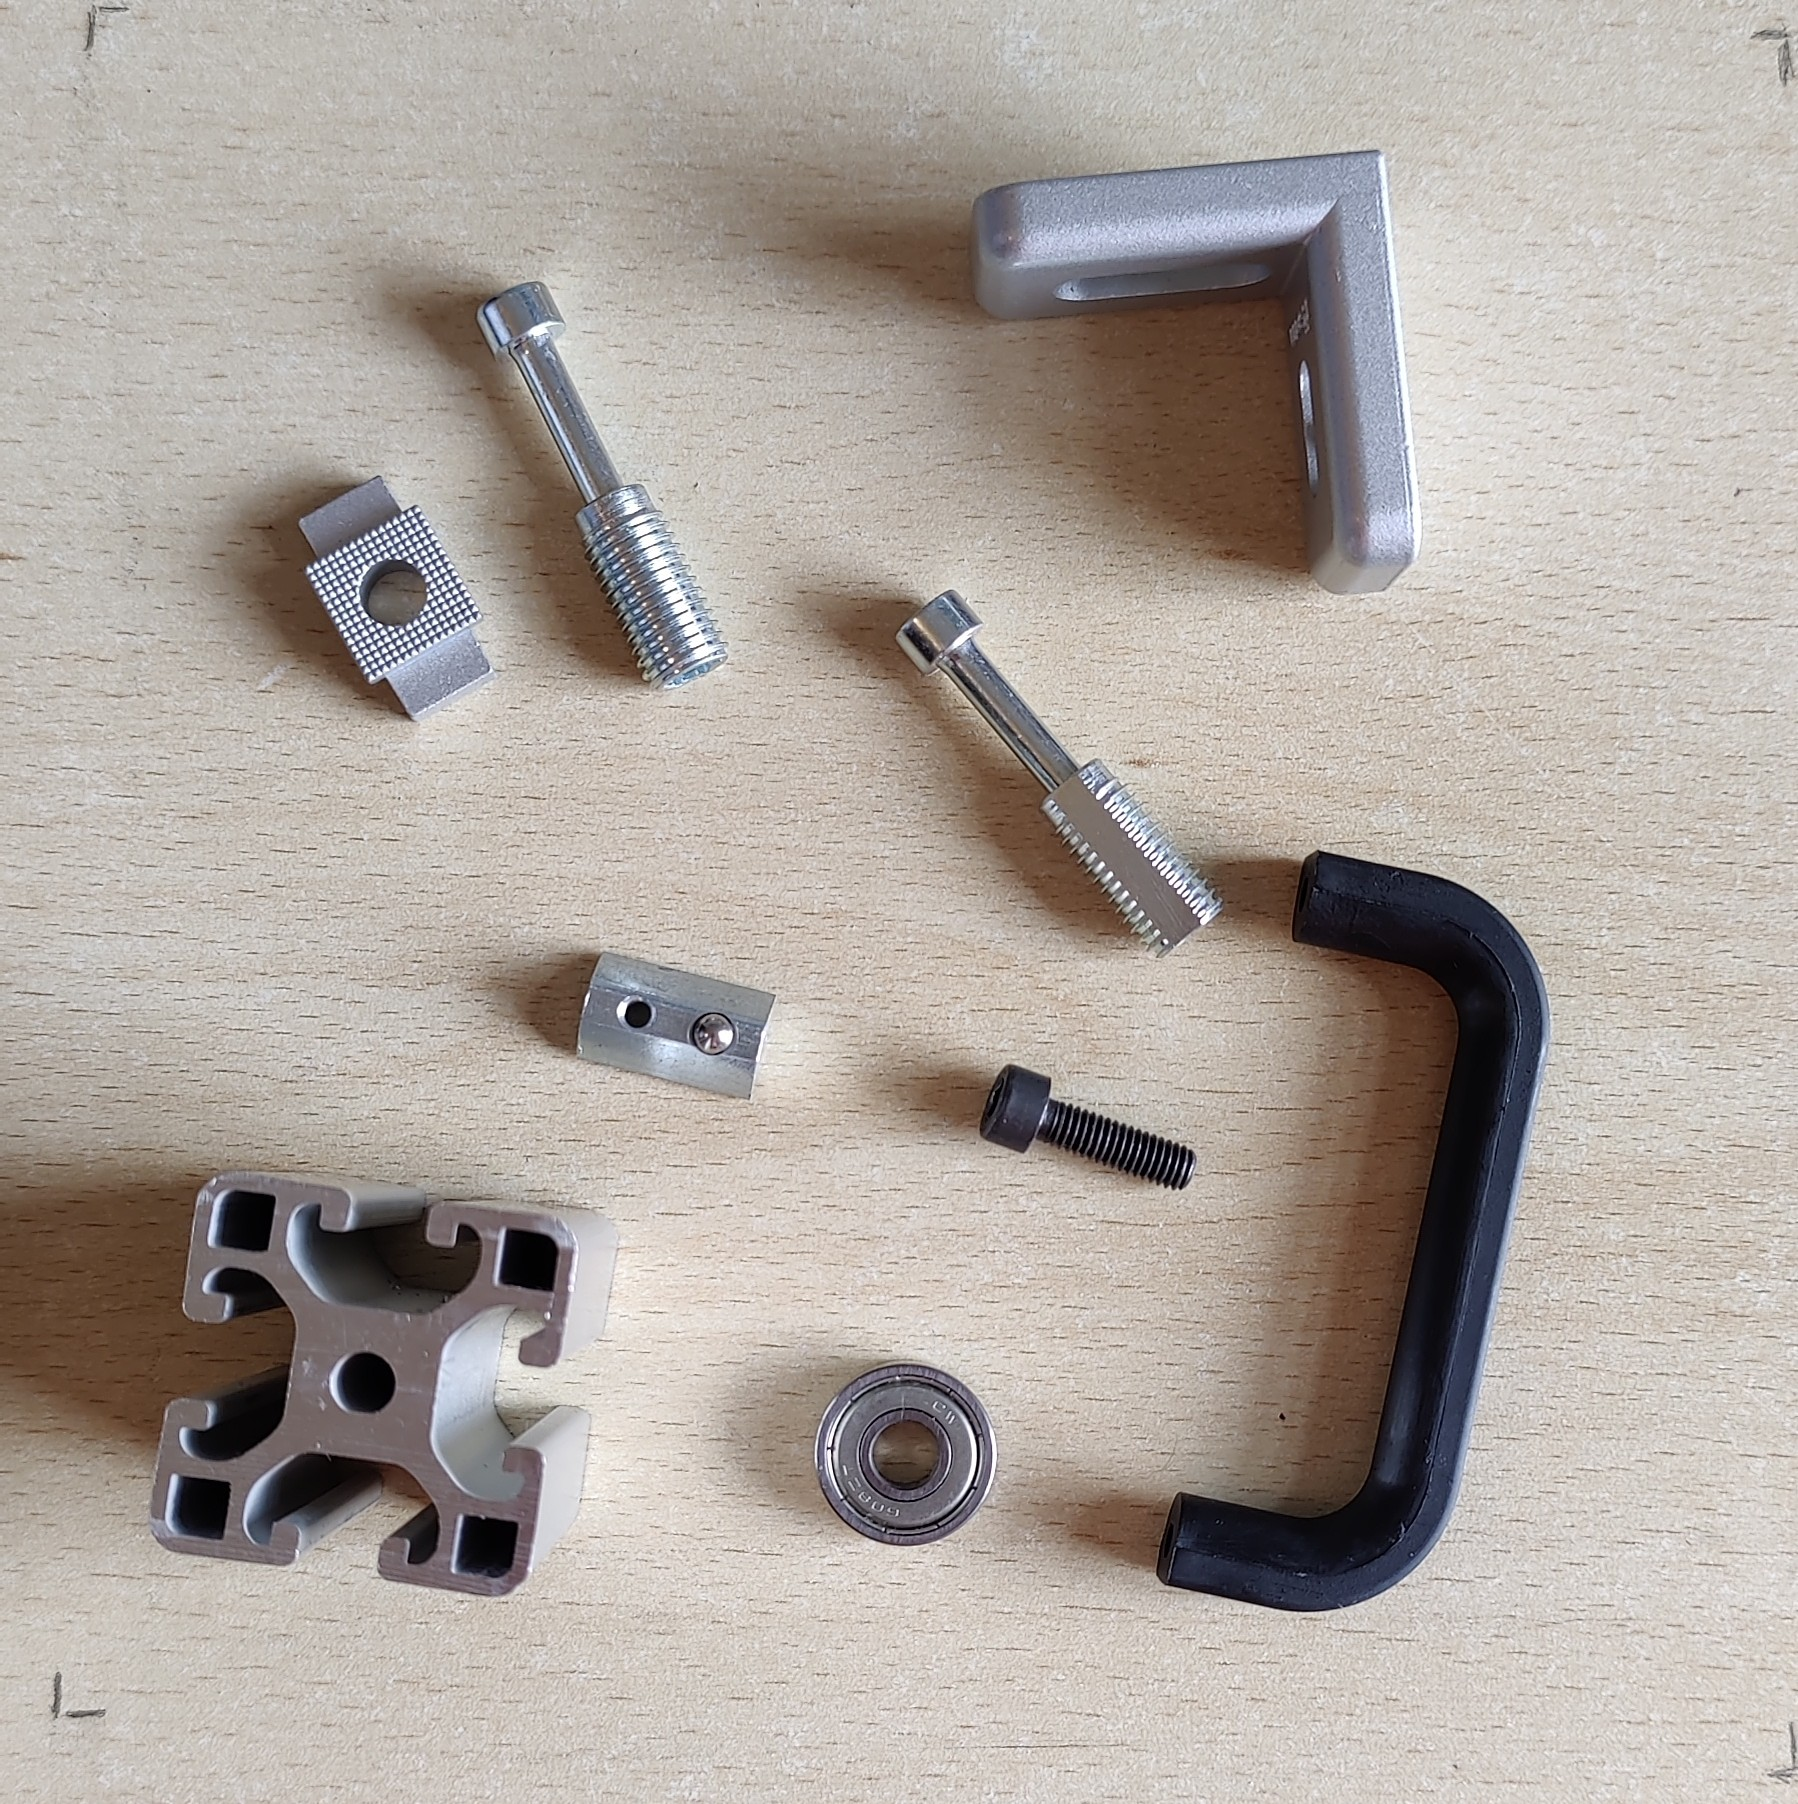Aluminium Extension: (147, 1167, 622, 1600)
Ball Bearing: (812, 1361, 994, 1547)
Multiwinkel: (967, 146, 1421, 594)
Pull Handle: (1156, 848, 1553, 1616)
Shoulder Socket Head Cap Screw: (892, 586, 1228, 961), (473, 277, 729, 695)
Socket Head Cap Screw: (976, 1062, 1200, 1192)
T Nut Square: (298, 471, 499, 726)
T Spring Nut: (575, 951, 779, 1101)
